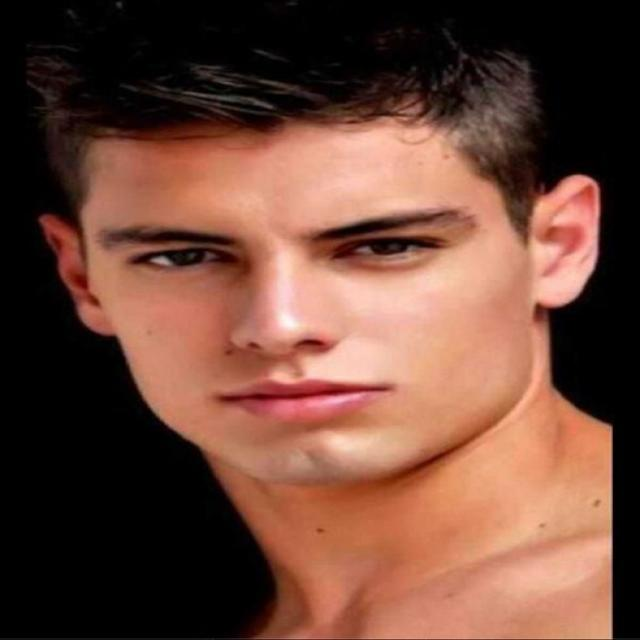earlobe: (535, 274, 574, 309), (82, 302, 116, 336)
eye: (332, 236, 442, 261), (127, 247, 237, 270)
nose: (232, 342, 335, 369)
wholeear: (37, 214, 116, 336), (531, 174, 600, 309)
